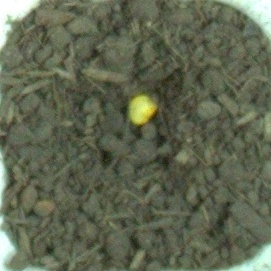pepper seed: (47, 30, 206, 157)
